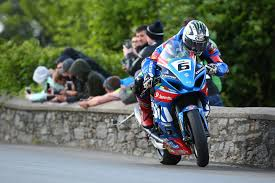helmet: (179, 19, 211, 56)
